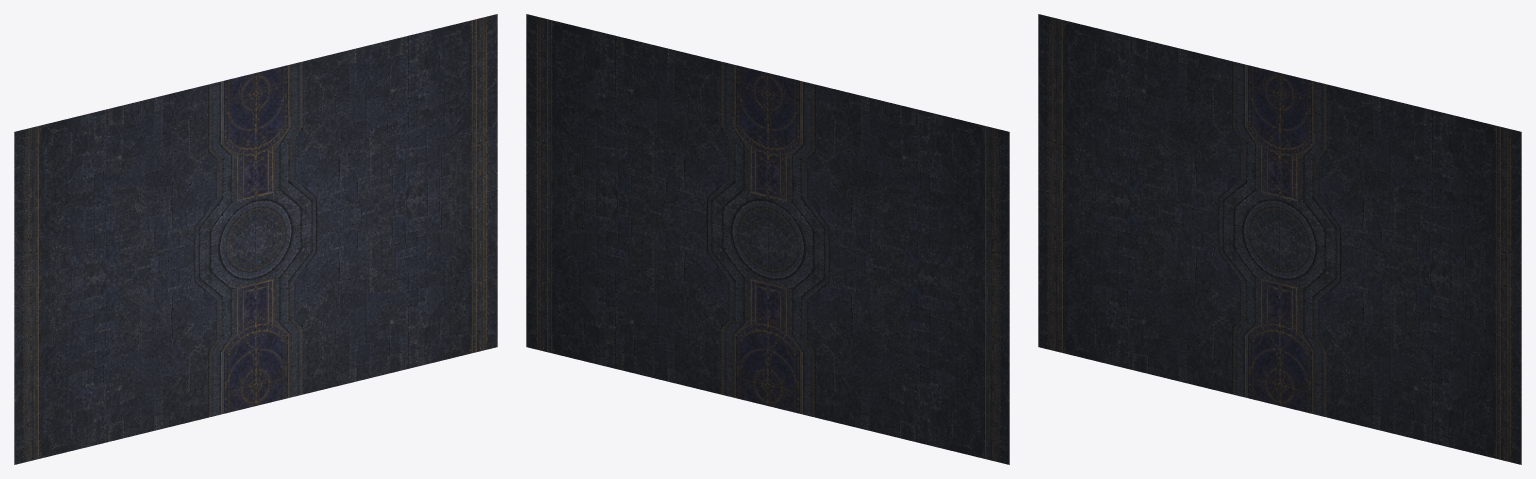
File: terrain-abyss-chancel-raw-image-plane.obj
3 views of the same model, side by side, from view 1: azimuth 30°, elevation 25°; view 2: azimuth 150°, elevation 25°; view 3: azimuth 330°, elevation 25° (orthographic).
Parts seen in each view (by area): view 1: TerrainAbyssChancelRawImagePlane; view 2: TerrainAbyssChancelRawImagePlane; view 3: TerrainAbyssChancelRawImagePlane.
Part boxes in pixels (x1,y1,x2,y2): TerrainAbyssChancelRawImagePlane: [14, 14, 497, 464]; TerrainAbyssChancelRawImagePlane: [526, 14, 1009, 464]; TerrainAbyssChancelRawImagePlane: [1038, 14, 1521, 464].
Bounding box in the file's own units: 1.88 × 1.24 × 0.
Materials: 1 (1 with a texture image).
